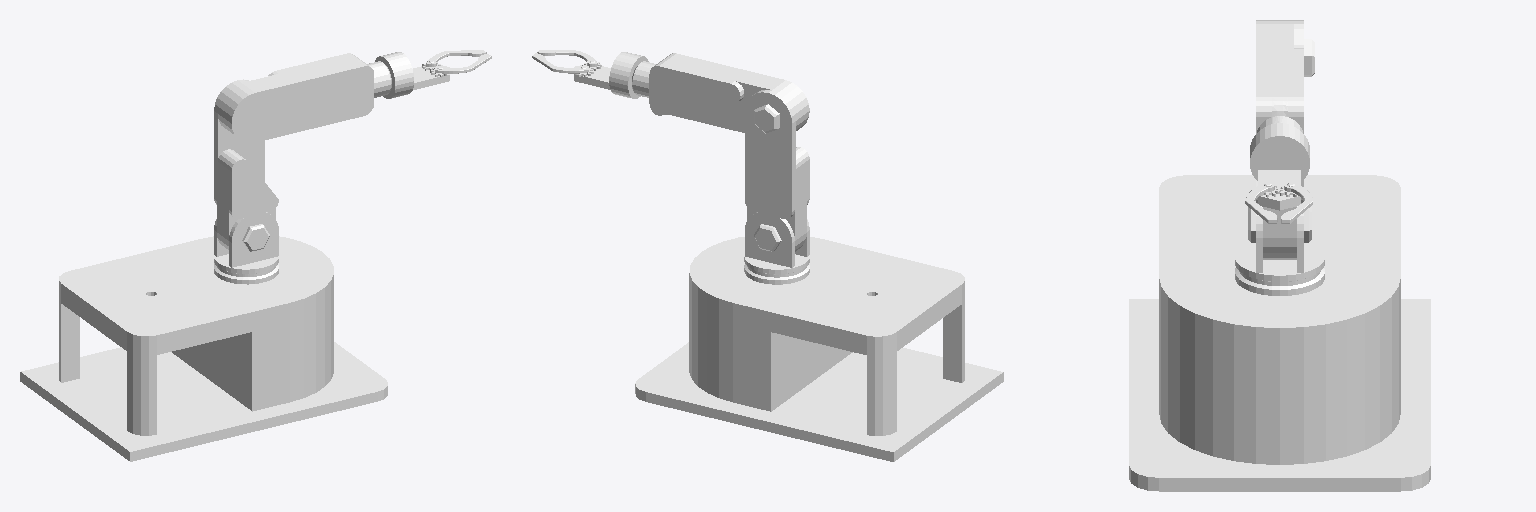
robot.urdf — brazorobot_actualizado:
<?xml version="1.0" encoding="utf-8"?>
<!-- This URDF was automatically created by SolidWorks to URDF Exporter! Originally created by [author] ([email redacted]) 
     Commit Version: 1.6.0-4-g7f85cfe  Build Version: 1.6.7995.38578
     For more information, please see http://wiki.ros.org/sw_urdf_exporter -->
<robot
  name="brazorobot_actualizado">
  <link
    name="link_1">
    <inertial>
      <origin
        xyz="-0.00882290273067091 0 0.0269217585658854"
        rpy="0 0 0" />
      <mass
        value="0.335288318064784" />
      <inertia
        ixx="0.000301882076882298"
        ixy="-2.37222794563191E-20"
        ixz="1.52482939379535E-05"
        iyy="0.000465085576680723"
        iyz="-1.78618046858673E-20"
        izz="0.000536871509489116" />
    </inertial>
    <visual>
      <origin
        xyz="0 0 0"
        rpy="0 0 0" />
      <geometry>
        <mesh
          filename="package://brazorobot_actualizado/meshes/link_1.STL" />
      </geometry>
      <material
        name="">
        <color
          rgba="1 1 1 1" />
      </material>
    </visual>
    <collision>
      <origin
        xyz="0 0 0"
        rpy="0 0 0" />
      <geometry>
        <mesh
          filename="package://brazorobot_actualizado/meshes/link_1.STL" />
      </geometry>
    </collision>
  </link>
  <link
    name="link_2">
    <inertial>
      <origin
        xyz="0 0 0.0630288606936914"
        rpy="0 0 0" />
      <mass
        value="0.00792631563306555" />
      <inertia
        ixx="9.54333718723177E-07"
        ixy="-1.32122335786909E-23"
        ixz="4.18667533966378E-23"
        iyy="9.71075618241566E-07"
        iyz="2.03729901633582E-23"
        izz="7.97669672938977E-07" />
    </inertial>
    <visual>
      <origin
        xyz="0 0 0"
        rpy="0 0 0" />
      <geometry>
        <mesh
          filename="package://brazorobot_actualizado/meshes/link_2.STL" />
      </geometry>
      <material
        name="">
        <color
          rgba="1 1 1 1" />
      </material>
    </visual>
    <collision>
      <origin
        xyz="0 0 0"
        rpy="0 0 0" />
      <geometry>
        <mesh
          filename="package://brazorobot_actualizado/meshes/link_2.STL" />
      </geometry>
    </collision>
  </link>
  <joint
    name="joint_1"
    type="revolute">
    <origin
      xyz="0 0 0"
      rpy="0 0 0" />
    <parent
      link="link_1" />
    <child
      link="link_2" />
    <axis
      xyz="0 0 -1" />
    <limit
      lower="-1.5708"
      upper="1.5708"
      effort="0.18"
      velocity="10.472" />
    <dynamics
      damping="0"
      friction="0" />
  </joint>
  <link
    name="link_3">
    <inertial>
      <origin
        xyz="-0.000966415503477563 -0.0190572854817526 0.00105821743021271"
        rpy="0 0 0" />
      <mass
        value="0.0485744385999758" />
      <inertia
        ixx="1.8593970179839E-05"
        ixy="-5.25312085428344E-07"
        ixz="-1.31826405070508E-07"
        iyy="3.2725311613632E-06"
        iyz="1.54876095792427E-06"
        izz="1.9702766411215E-05" />
    </inertial>
    <visual>
      <origin
        xyz="0 0 0"
        rpy="0 0 0" />
      <geometry>
        <mesh
          filename="package://brazorobot_actualizado/meshes/link_3.STL" />
      </geometry>
      <material
        name="">
        <color
          rgba="1 1 1 1" />
      </material>
    </visual>
    <collision>
      <origin
        xyz="0 0 0"
        rpy="0 0 0" />
      <geometry>
        <mesh
          filename="package://brazorobot_actualizado/meshes/link_3.STL" />
      </geometry>
    </collision>
  </link>
  <joint
    name="joint_3"
    type="revolute">
    <origin
      xyz="0 0 0.075"
      rpy="-1.5708 0 0" />
    <parent
      link="link_2" />
    <child
      link="link_3" />
    <axis
      xyz="0 0 -1" />
    <limit
      lower="-1.5708"
      upper="1.5708"
      effort="0.18"
      velocity="10.472" />
    <dynamics
      damping="0"
      friction="0" />
  </joint>
  <link
    name="link_4">
    <inertial>
      <origin
        xyz="0.000301769617941816 0.0299293457414871 -0.000556617692094648"
        rpy="0 0 0" />
      <mass
        value="0.028486686920439" />
      <inertia
        ixx="1.51704938602305E-05"
        ixy="-1.96328794398074E-08"
        ixz="-5.85124985696709E-08"
        iyy="1.87208865570457E-06"
        iyz="-2.12186863467087E-07"
        izz="1.59205662534004E-05" />
    </inertial>
    <visual>
      <origin
        xyz="0 0 0"
        rpy="0 0 0" />
      <geometry>
        <mesh
          filename="package://brazorobot_actualizado/meshes/link_4.STL" />
      </geometry>
      <material
        name="">
        <color
          rgba="1 1 1 1" />
      </material>
    </visual>
    <collision>
      <origin
        xyz="0 0 0"
        rpy="0 0 0" />
      <geometry>
        <mesh
          filename="package://brazorobot_actualizado/meshes/link_4.STL" />
      </geometry>
    </collision>
  </link>
  <joint
    name="joint_4"
    type="revolute">
    <origin
      xyz="0 -0.06 0"
      rpy="0 0 -1.5708" />
    <parent
      link="link_3" />
    <child
      link="link_4" />
    <axis
      xyz="0 0 -1" />
    <limit
      lower="0"
      upper="3.1416"
      effort="0.18"
      velocity="10.472" />
    <dynamics
      damping="0"
      friction="0" />
  </joint>
  <link
    name="link_5">
    <inertial>
      <origin
        xyz="-0.00104217230985984 3.44390048610879E-05 0.0812317135361134"
        rpy="0 0 0" />
      <mass
        value="0.00437816277547282" />
      <inertia
        ixx="3.8534696570901E-07"
        ixy="4.83674876889537E-10"
        ixz="5.5601554146915E-08"
        iyy="3.84305888855166E-07"
        iyz="-1.83737581149913E-09"
        izz="1.93040520057411E-07" />
    </inertial>
    <visual>
      <origin
        xyz="0 0 0"
        rpy="0 0 0" />
      <geometry>
        <mesh
          filename="package://brazorobot_actualizado/meshes/link_5.STL" />
      </geometry>
      <material
        name="">
        <color
          rgba="1 1 1 1" />
      </material>
    </visual>
    <collision>
      <origin
        xyz="0 0 0"
        rpy="0 0 0" />
      <geometry>
        <mesh
          filename="package://brazorobot_actualizado/meshes/link_5.STL" />
      </geometry>
    </collision>
  </link>
  <joint
    name="joint_5"
    type="revolute">
    <origin
      xyz="0 0 0"
      rpy="-1.5708 0 0" />
    <parent
      link="link_4" />
    <child
      link="link_5" />
    <axis
      xyz="0 0 -1" />
    <limit
      lower="-1.5708"
      upper="1.5708"
      effort="0.18"
      velocity="10.472" />
    <dynamics
      damping="0"
      friction="0" />
  </joint>
  <link
    name="link_6">
    <inertial>
      <origin
        xyz="0.00167592221045527 -0.0088511242428389 -0.00127020520761781"
        rpy="0 0 0" />
      <mass
        value="0.000226797486557845" />
      <inertia
        ixx="1.24300680379589E-08"
        ixy="-1.37850376202537E-09"
        ixz="-2.15132336678204E-22"
        iyy="1.44598497176332E-09"
        iyz="-3.96593691468018E-22"
        izz="1.35570478126575E-08" />
    </inertial>
    <visual>
      <origin
        xyz="0 0 0"
        rpy="0 0 0" />
      <geometry>
        <mesh
          filename="package://brazorobot_actualizado/meshes/link_6.STL" />
      </geometry>
      <material
        name="">
        <color
          rgba="1 1 1 1" />
      </material>
    </visual>
    <collision>
      <origin
        xyz="0 0 0"
        rpy="0 0 0" />
      <geometry>
        <mesh
          filename="package://brazorobot_actualizado/meshes/link_6.STL" />
      </geometry>
    </collision>
  </link>
  <joint
    name="joint_6"
    type="revolute">
    <origin
      xyz="0 -0.0036696 0.099465"
      rpy="-1.5708 0 -1.5708" />
    <parent
      link="link_5" />
    <child
      link="link_6" />
    <axis
      xyz="0 0 -1" />
    <limit
      lower="-1.5708"
      upper="0"
      effort="0.18"
      velocity="10.472" />
    <dynamics
      damping="0"
      friction="0" />
  </joint>
  <link
    name="link_7">
    <inertial>
      <origin
        xyz="0.0017313 -0.0088405 0.0012702"
        rpy="0 0 0" />
      <mass
        value="0.0002268" />
      <inertia
        ixx="1.2447E-08"
        ixy="-1.3096E-09"
        ixz="-1.1873E-22"
        iyy="1.4292E-09"
        iyz="6.2202E-23"
        izz="1.3557E-08" />
    </inertial>
    <visual>
      <origin
        xyz="0 0 0"
        rpy="0 0 0" />
      <geometry>
        <mesh
          filename="package://brazorobot_actualizado/meshes/link_7.STL" />
      </geometry>
      <material
        name="">
        <color
          rgba="1 1 1 1" />
      </material>
    </visual>
    <collision>
      <origin
        xyz="0 0 0"
        rpy="0 0 0" />
      <geometry>
        <mesh
          filename="package://brazorobot_actualizado/meshes/link_7.STL" />
      </geometry>
    </collision>
  </link>
  <joint
    name="joint_7"
    type="revolute">
    <origin
      xyz="0 0.0039504 0.099465"
      rpy="-1.5708 0 1.5708" />
    <parent
      link="link_5" />
    <child
      link="link_7" />
    <axis
      xyz="0 0 1" />
    <limit
      lower="0"
      upper="1.5708"
      effort="0.18"
      velocity="10.472" />
    <dynamics
      damping="0"
      friction="0" />
  </joint>
</robot>

--- Facts derived from the render (not from the file) ---
The picture shows the robot from 3 angles, left to right: view 1: azimuth 30°, elevation 25°; view 2: azimuth 150°, elevation 25°; view 3: azimuth 270°, elevation 25°; orthographic projection.
Robot: brazorobot_actualizado — 7 links, 6 joints (6 revolute); root link link_1; default pose: all joints at 0.
Links seen in each view (by area): view 1: link_1, link_4, link_3, link_2, link_5; view 2: link_1, link_4, link_3, link_2, link_5; view 3: link_1, link_4, link_2, link_5, link_3, link_7, link_6.
Boxes of the visible links, <box> form: link_1: <box>20,236,387,461</box>; link_4: <box>218,53,391,142</box>; link_3: <box>214,79,278,251</box>; link_2: <box>214,212,278,284</box>; link_5: <box>375,52,449,98</box>; link_1: <box>635,237,1003,461</box>; link_4: <box>632,53,809,133</box>; link_3: <box>745,90,809,251</box>; link_2: <box>744,212,809,284</box>; link_5: <box>574,52,648,98</box>; link_1: <box>1129,175,1430,491</box>; link_4: <box>1256,20,1314,133</box>; link_2: <box>1235,206,1324,295</box>; link_5: <box>1250,123,1309,210</box>; link_3: <box>1248,20,1311,259</box>; link_7: <box>1245,182,1280,223</box>; link_6: <box>1277,182,1312,223</box>.
Bounding box of the posed robot: 0.2166 × 0.1 × 0.1475 m (x, y, z).
7 mesh visuals loaded from 7 distinct referenced files (7 binary STL).